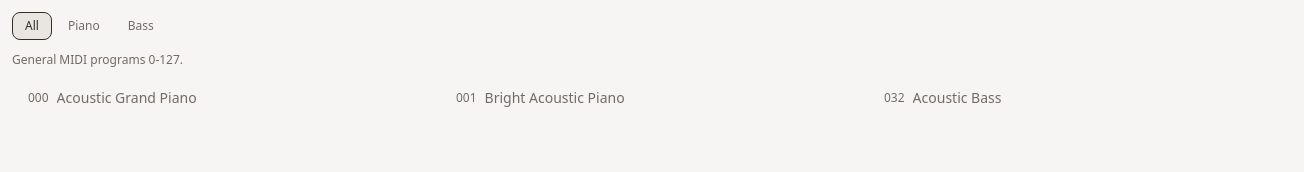
InstrumentBrowser › filters programs by family chip
Expected: the button "000 Acoustic Grand Piano" is shown, [12,80,436,116]
Expected: the button "032 Acoustic Bass" is shown, [868,80,1292,116]
Click the button "Bass" at (141, 26), box [116,12,166,40]
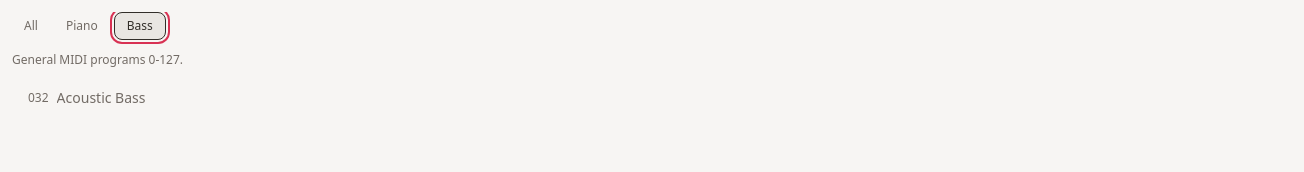
Expected: the button "032 Acoustic Bass" is shown, [12,80,436,116]
Result: the button "Acoustic Grand Piano" is gone
